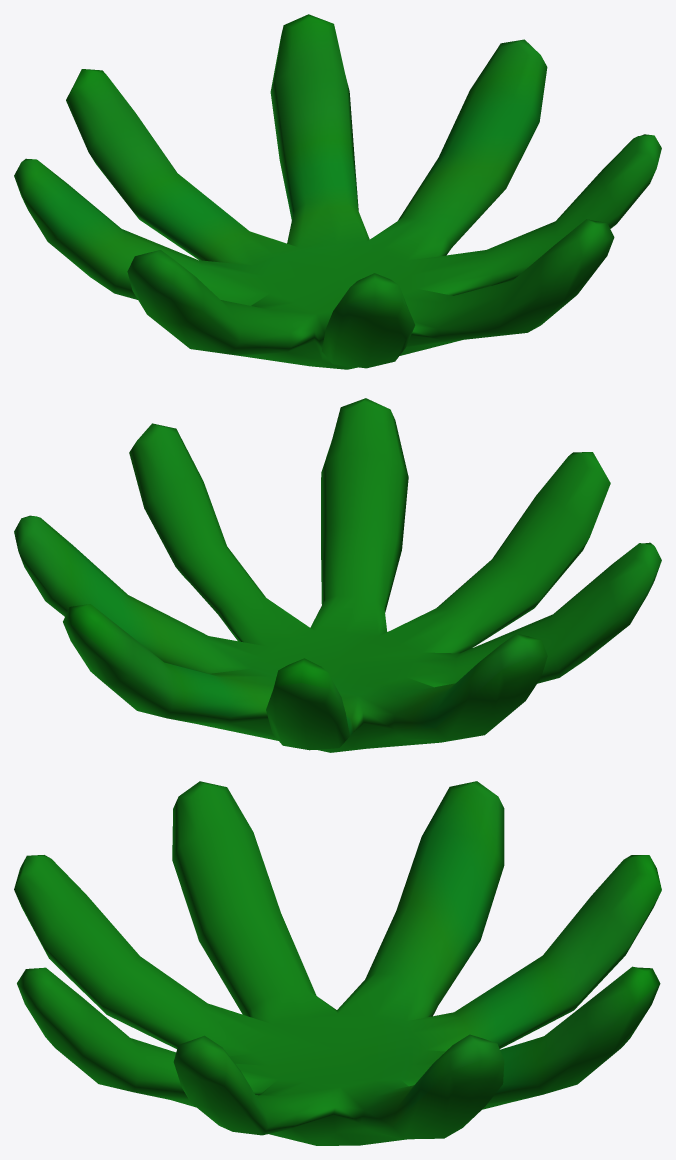
Rendered from SM_Bush_06.fbx.
3 renders of one model, top to bottom at view 1: azimuth 30°, elevation 25°; view 2: azimuth 150°, elevation 25°; view 3: azimuth 270°, elevation 25°, orthographic. The views are drawn at different scales.
Visible parts, largest first — view 1: SM_Bush_06; view 2: SM_Bush_06; view 3: SM_Bush_06.
Part boxes in pixels (<box>): SM_Bush_06: <box>14,14,661,369</box>; SM_Bush_06: <box>14,398,661,752</box>; SM_Bush_06: <box>14,781,661,1145</box>.
Size of the model in its own units: 435 by 161 by 436.
